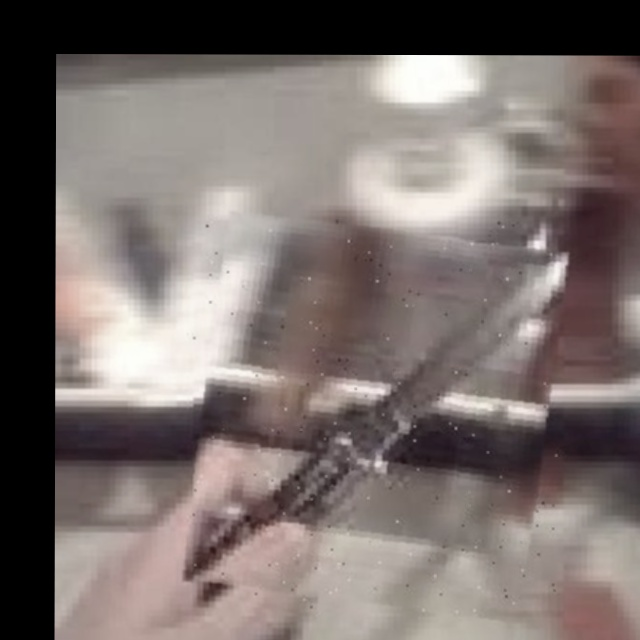Sharp-Object: (193, 219, 558, 614)
